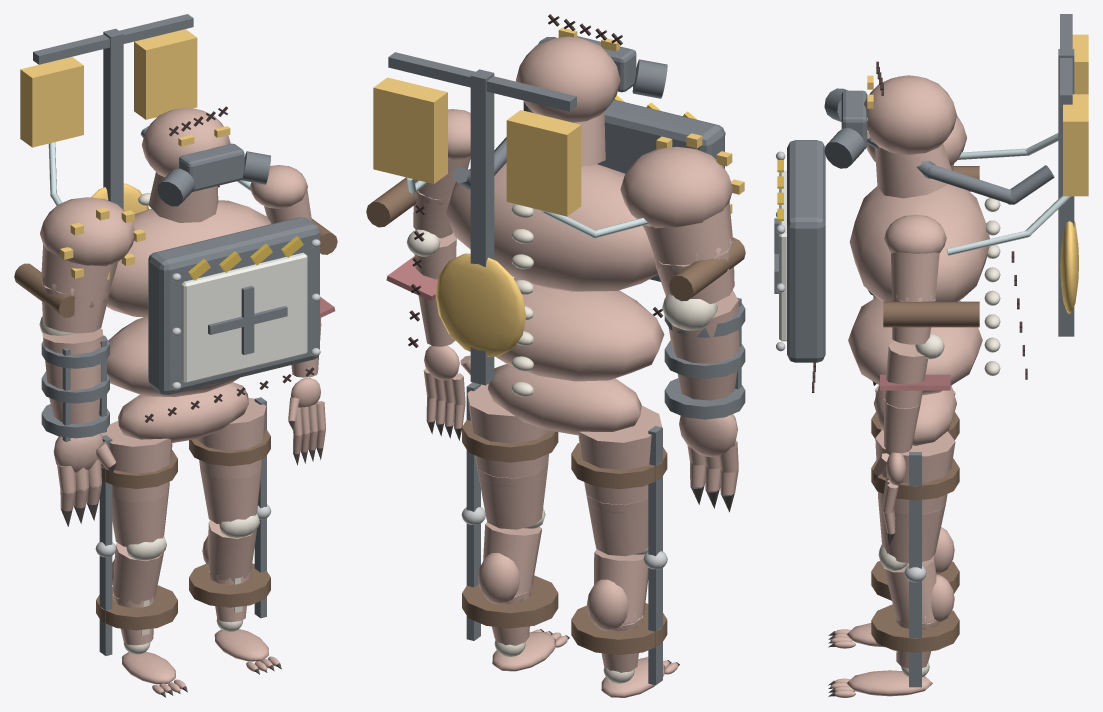
Rendered from grafted.glb.
3 views of the same model, side by side, from view 1: azimuth 30°, elevation 25°; view 2: azimuth 150°, elevation 25°; view 3: azimuth 270°, elevation 25° (orthographic). The views are drawn at different scales.
Parts seen in each view (by area): view 1: ward_mask, ward_steel.017, ward_skin.065, ward_skin.063, glow.010, glow.011, ward_skin.045, ward_steel.020, ward_skin.067, ward_skin.064, ward_skin.012, ward_skin (+39 smaller); view 2: ward_skin.065, ward_skin.064, ward_skin.045, glow.010, ward_skin.063, glow.011, glow.012, ward_skin.067, ward_steel.020, ward_steel.017, ward_skin.012, ward_skin (+41 smaller); view 3: ward_skin.065, ward_steel.017, ward_skin.067, ward_skin.064, ward_skin.066, ward_strap.005, glow.011, ward_strap.001, ward_skin, ward_steel, ward_skin.025, ward_skin.028 (+26 smaller).
Part boxes in pixels (left/top/right/bottom): ward_mask: left=181, top=252, right=307, bottom=383; ward_steel.017: left=148, top=217, right=319, bottom=394; ward_skin.065: left=106, top=200, right=270, bottom=316; ward_skin.063: left=118, top=382, right=248, bottom=442; glow.010: left=20, top=57, right=83, bottom=147; glow.011: left=134, top=29, right=197, bottom=119; ward_skin.045: left=40, top=197, right=134, bottom=266; ward_steel.020: left=103, top=28, right=123, bottom=209; ward_skin.067: left=142, top=107, right=230, bottom=177; ward_skin.064: left=107, top=317, right=239, bottom=396; ward_skin.012: left=101, top=421, right=172, bottom=502; ward_skin: left=196, top=397, right=266, bottom=479; ward_skin.065: left=446, top=162, right=658, bottom=291; ward_skin.064: left=496, top=277, right=664, bottom=381; ward_skin.045: left=620, top=146, right=733, bottom=228; glow.010: left=506, top=110, right=581, bottom=216; ward_skin.063: left=488, top=364, right=641, bottom=435; glow.011: left=373, top=77, right=447, bottom=183; glow.012: left=435, top=253, right=526, bottom=356; ward_skin.067: left=516, top=36, right=620, bottom=122; ward_steel.020: left=470, top=69, right=494, bottom=385; ward_steel.017: left=523, top=99, right=724, bottom=281; ward_skin.012: left=578, top=405, right=661, bottom=504; ward_skin: left=467, top=384, right=549, bottom=478; ward_skin.065: left=849, top=184, right=989, bottom=301; ward_steel.017: left=787, top=140, right=825, bottom=362; ward_skin.067: left=864, top=75, right=956, bottom=154; ward_skin.064: left=848, top=297, right=982, bottom=395; ward_skin.066: left=875, top=143, right=951, bottom=198; ward_strap.005: left=883, top=301, right=979, bottom=327; glow.011: left=1063, top=94, right=1088, bottom=196; ward_strap.001: left=871, top=604, right=959, bottom=652; ward_skin: left=875, top=430, right=955, bottom=514; ward_steel: left=909, top=452, right=921, bottom=666; ward_skin.025: left=891, top=252, right=939, bottom=302; ward_skin.028: left=884, top=341, right=927, bottom=408.
Bounding box in the file's own units: 1.64 × 3.17 × 1.47.
